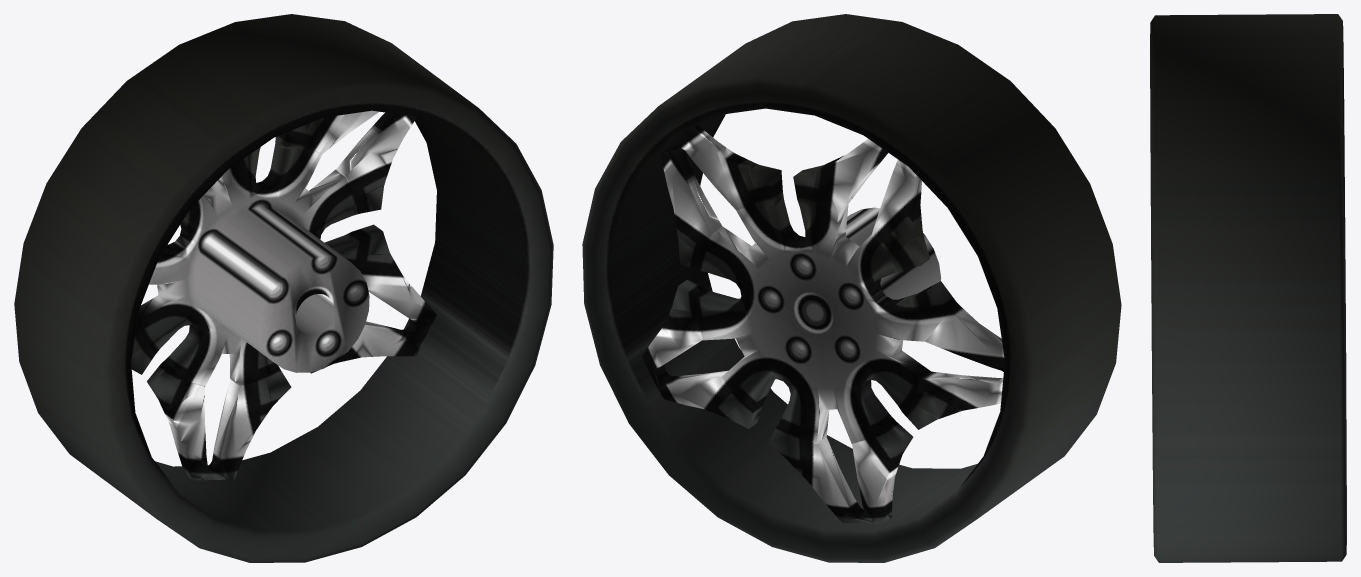
File: llantaDerechaDelantera.obj
3 renders of one model, left to right at view 1: azimuth 30°, elevation 25°; view 2: azimuth 150°, elevation 25°; view 3: azimuth 270°, elevation 25°, orthographic. The views are drawn at different scales.
Visible parts, largest first — view 1: llantaDD; view 2: llantaDD; view 3: llantaDD.
Part boxes in pixels (<box>): llantaDD: <box>14,14,553,562</box>; llantaDD: <box>582,14,1121,562</box>; llantaDD: <box>1150,14,1346,562</box>.
Bounding box in the file's own units: 0.7792 × 0.7809 × 0.2799.
1 material, 1 textured.
